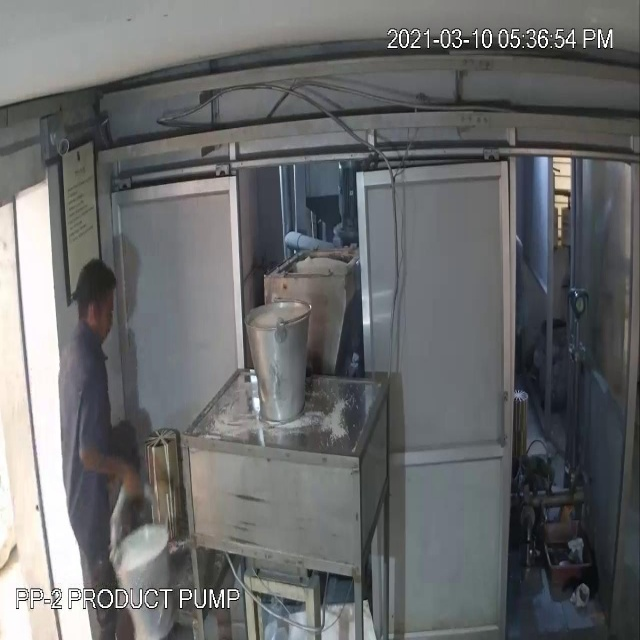Sin_guantes: (81, 437, 143, 519)
